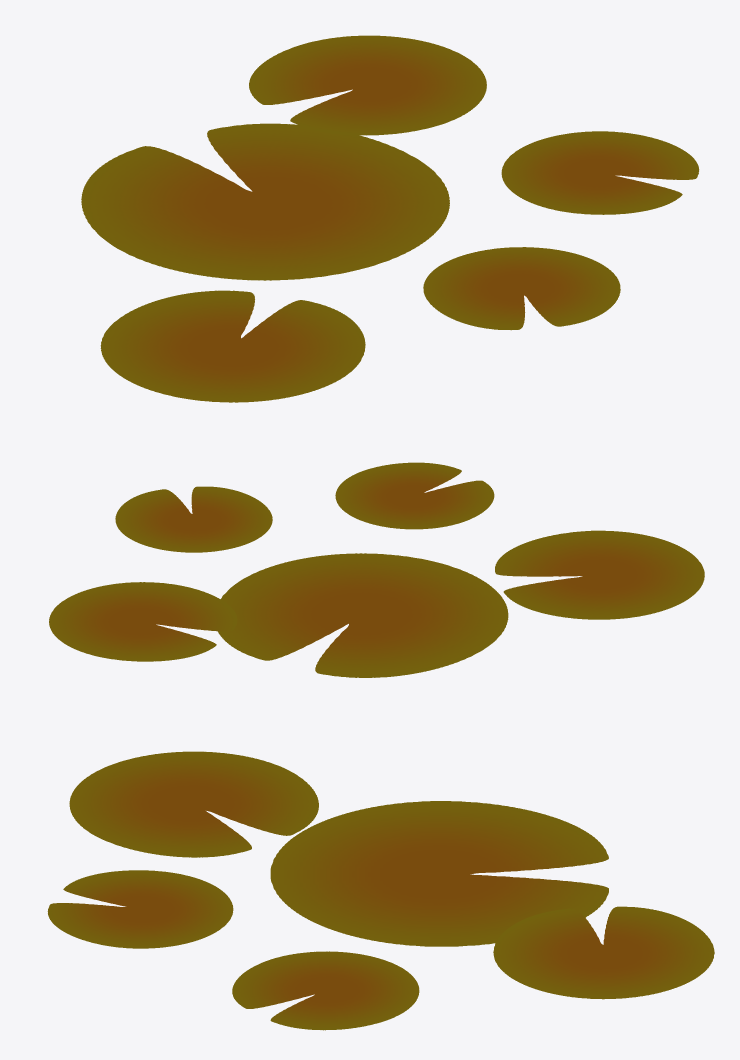
The model's file is Nenuphar_G1.fbx.
The picture shows the model from 3 angles, top to bottom: view 1: azimuth 30°, elevation 25°; view 2: azimuth 150°, elevation 25°; view 3: azimuth 270°, elevation 25°; orthographic projection. The views are drawn at different scales.
Parts seen in each view (by area): view 1: Nenuphar_G1; view 2: Nenuphar_G1; view 3: Nenuphar_G1.
Boxes of the visible parts, box(x1,y1,x2,y2) form: Nenuphar_G1: box(81, 35, 699, 402); Nenuphar_G1: box(49, 462, 704, 677); Nenuphar_G1: box(47, 751, 714, 1030).
Size of the model in its own units: 44.13 by 0.8704 by 40.02.
